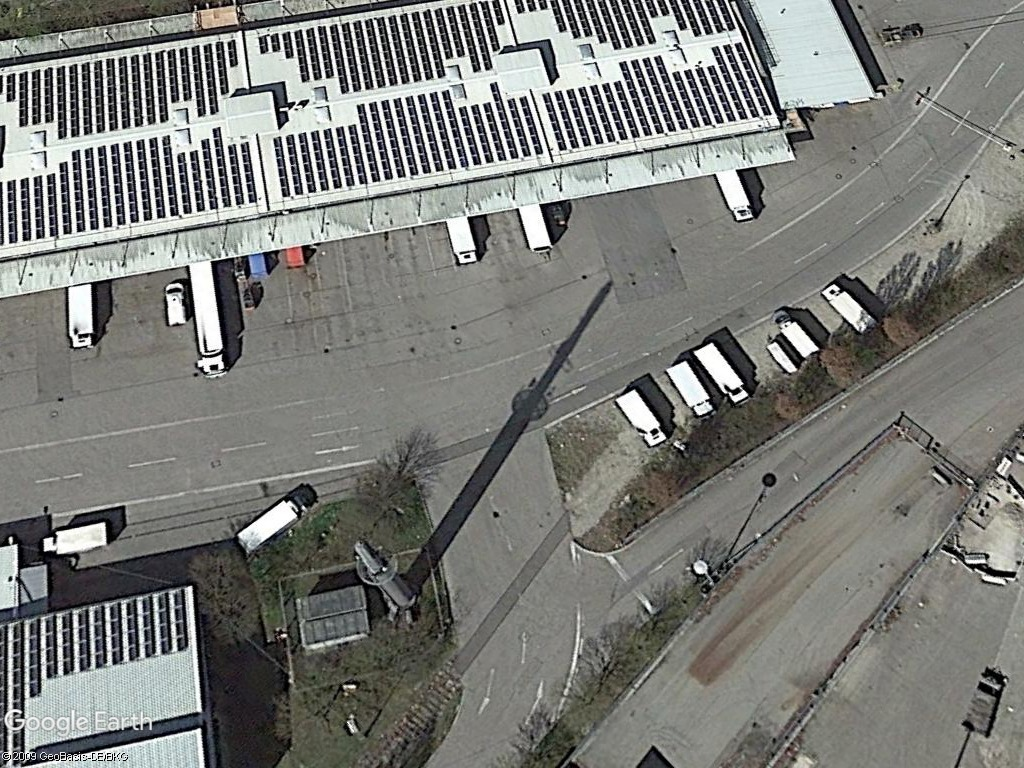longvehicle: (189, 261, 234, 383)
truck: (231, 482, 315, 562), (689, 338, 753, 408), (609, 386, 672, 450), (31, 516, 116, 562), (818, 278, 877, 340), (664, 357, 715, 422), (768, 307, 822, 364)
van: (161, 278, 192, 333)
